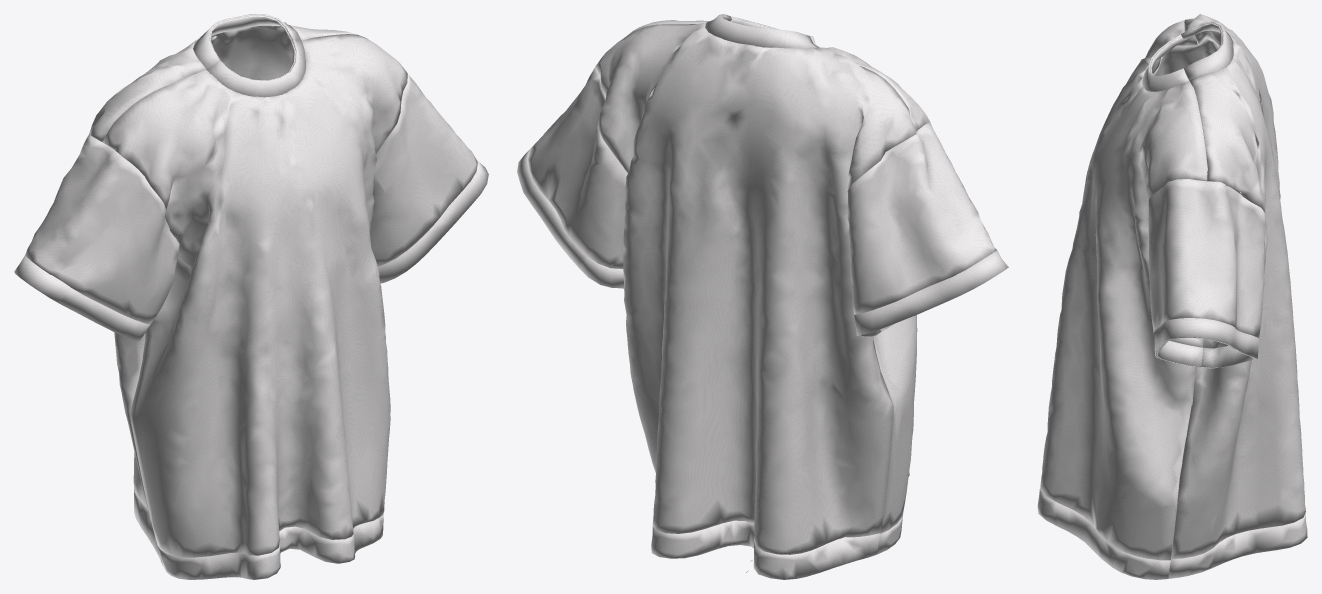
Rendered from t-shirt7.glb.
3 views of the same model, side by side, from view 1: azimuth 30°, elevation 25°; view 2: azimuth 150°, elevation 25°; view 3: azimuth 270°, elevation 25° (orthographic). The views are drawn at different scales.
Visible parts, largest first — view 1: camisaeta_0; view 2: camisaeta_0; view 3: camisaeta_0.
Part boxes in pixels (x1,y1,x2,y2): camisaeta_0: (14,14,488,579); camisaeta_0: (517,14,1008,579); camisaeta_0: (1037,14,1307,579).
Size of the model in its own units: 2.61 by 2.74 by 1.35.
Materials: 2 (1 with a texture image).
